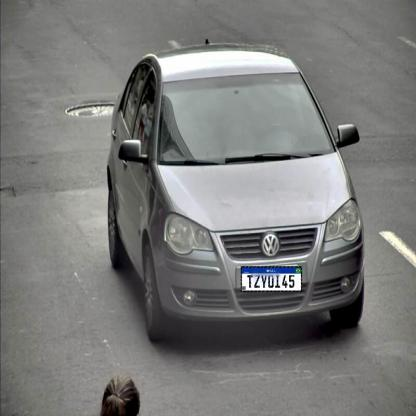PlacaM: (241, 266, 302, 292)
